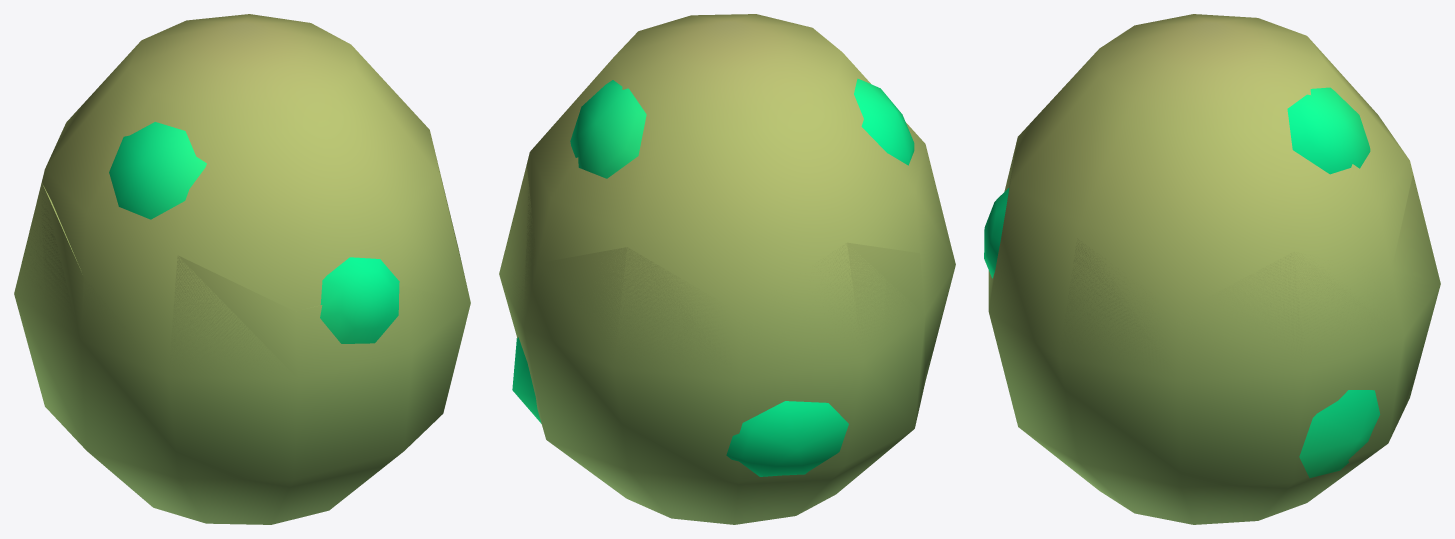
File: Egg_Green.fbx
The picture shows the model from 3 angles, left to right: view 1: azimuth 30°, elevation 25°; view 2: azimuth 150°, elevation 25°; view 3: azimuth 270°, elevation 25°; orthographic projection.
Visible parts, largest first — view 1: Egg_Green, Egg_Damaged_Green; view 2: Egg_Green, Egg_Damaged_Green; view 3: Egg_Green, Egg_Damaged_Green.
Part boxes in pixels (left/top/right/bottom): Egg_Green: left=14, top=14, right=470, bottom=524; Egg_Damaged_Green: left=14, top=182, right=469, bottom=379; Egg_Green: left=499, top=14, right=955, bottom=524; Egg_Damaged_Green: left=499, top=165, right=954, bottom=380; Egg_Green: left=984, top=14, right=1440, bottom=524; Egg_Damaged_Green: left=988, top=173, right=1440, bottom=379.
Bounding box in the file's own units: 1.9 × 2.3 × 1.98.
